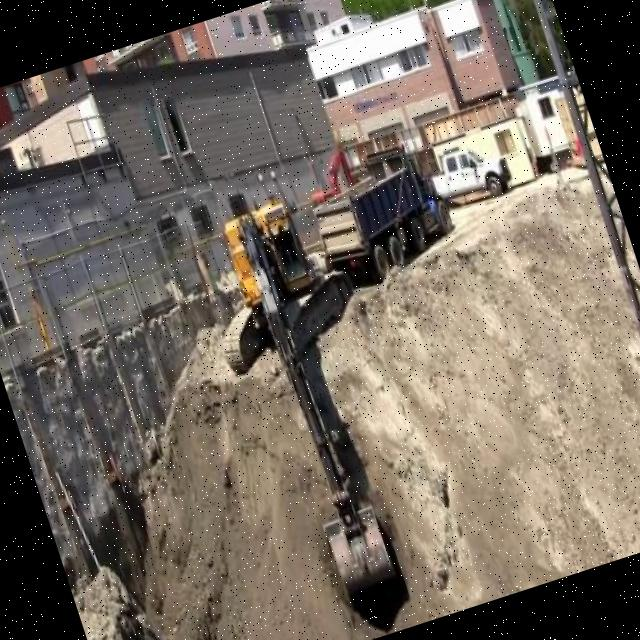Dump Truck: (299, 133, 462, 290)
Excavator: (177, 168, 446, 620)
